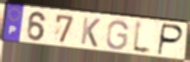6: (26, 11, 48, 42)
7: (55, 14, 75, 44)
G: (105, 19, 130, 51)
K: (79, 15, 102, 48)
L: (131, 19, 154, 58)
P: (156, 22, 185, 57)
